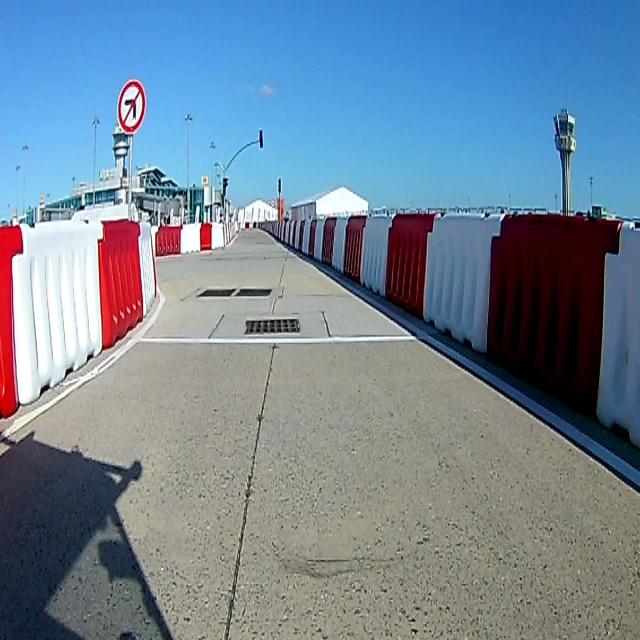soladonulmez: (117, 76, 148, 137)
